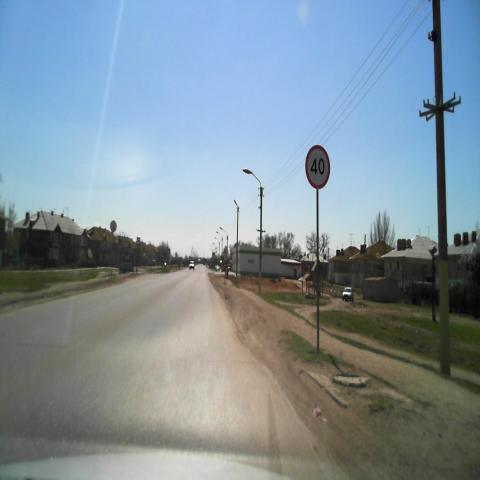3_24: (306, 144, 332, 190)
